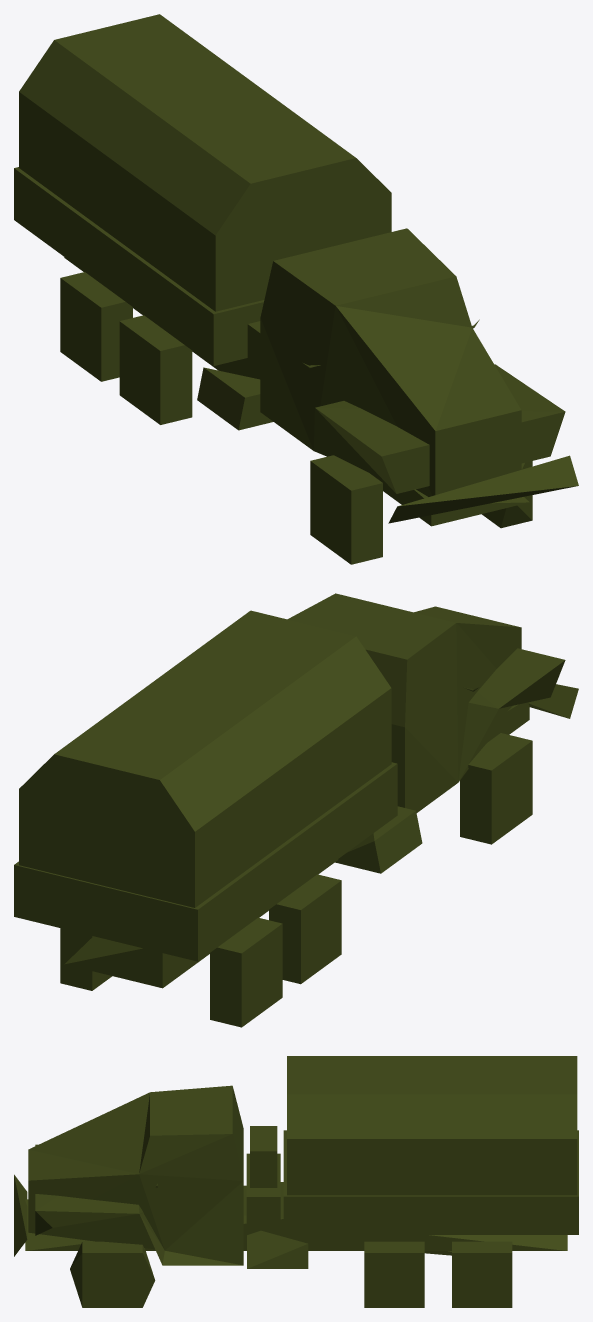
The model's file is mil-truck.lod2.glb.
The picture shows the model from 3 angles, top to bottom: view 1: azimuth 30°, elevation 25°; view 2: azimuth 150°, elevation 25°; view 3: azimuth 270°, elevation 25°; orthographic projection. The views are drawn at different scales.
Visible parts, largest first — view 1: Ural_Ural_0; view 2: Ural_Ural_0; view 3: Ural_Ural_0.
Boxes of the visible parts, x1,y1,x2,y2 form: Ural_Ural_0: (14, 14, 578, 564); Ural_Ural_0: (14, 593, 578, 1027); Ural_Ural_0: (14, 1056, 578, 1307).
Size of the model in its own units: 2.05 by 2.89 by 7.4.
